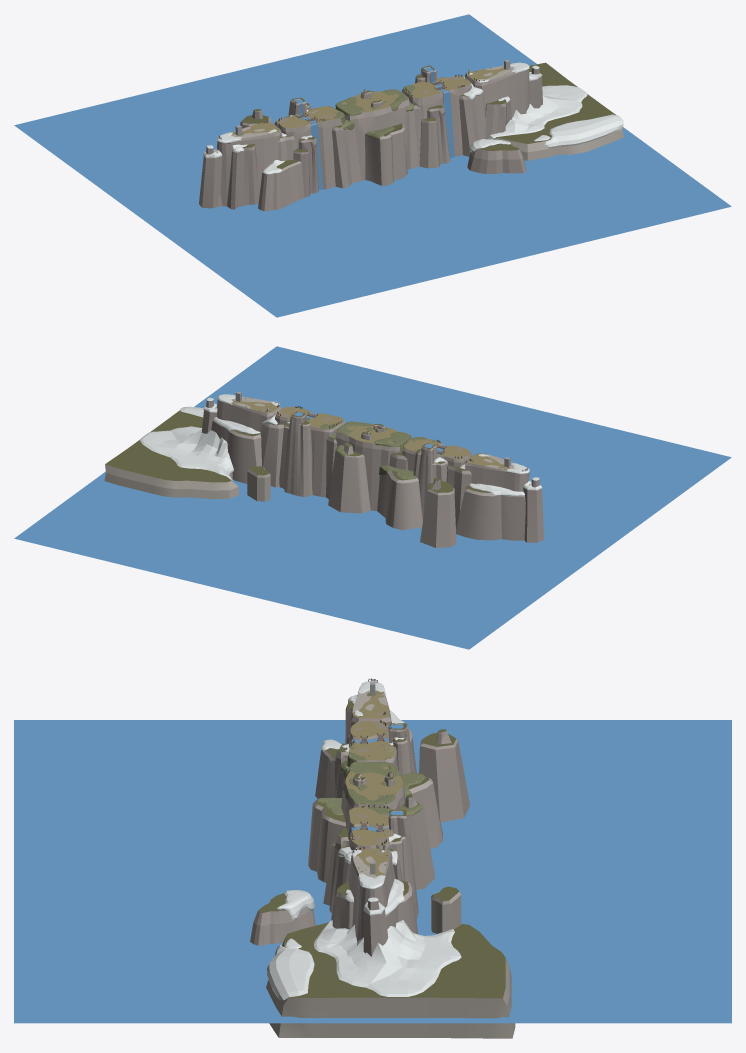
Rendered from level_export.fbx.
The picture shows the model from 3 angles, top to bottom: view 1: azimuth 30°, elevation 25°; view 2: azimuth 150°, elevation 25°; view 3: azimuth 270°, elevation 25°; orthographic projection. The views are drawn at different scales.
Parts seen in each view (by area): view 1: pPlane2, polySurface43, polySurface17, polySurface53, plateau (×2), polySurface15 (×2), polySurface78, polySurface46, polySurface21, GroundL (×2), polySurface48, polySurface32 (+5 smaller); view 2: pPlane2, polySurface53, polySurface23 (×2), polySurface25 (×2), polySurface46, polySurface17, polySurface60, polySurface41, polySurface7, polySurface43, polySurface78, polySurface74 (+4 smaller); view 3: pPlane2, polySurface53, polySurface46, polySurface43, polySurface7, polySurface78, polySurface25 (×2), polySurface48, polySurface50, polySurface60, GroundL (×2), pPlane5 (+9 smaller).
Boxes of the visible parts, x1=… form: pPlane2: x1=14, y1=14, x2=731, y2=317; polySurface43: x1=342, y1=91, x2=409, y2=185; polySurface17: x1=199, y1=122, x2=281, y2=208; polySurface53: x1=493, y1=62, x2=623, y2=160; plateau (×2): x1=293, y1=105, x2=450, y2=197; polySurface15 (×2): x1=227, y1=99, x2=512, y2=209; polySurface78: x1=465, y1=65, x2=542, y2=116; polySurface46: x1=488, y1=85, x2=587, y2=139; polySurface21: x1=258, y1=159, x2=304, y2=211; GroundL (×2): x1=274, y1=76, x2=471, y2=156; polySurface48: x1=545, y1=114, x2=623, y2=148; polySurface32: x1=332, y1=124, x2=361, y2=188; pPlane2: x1=14, y1=346, x2=731, y2=649; polySurface53: x1=104, y1=410, x2=239, y2=498; polySurface23 (×2): x1=211, y1=420, x2=525, y2=540; polySurface25 (×2): x1=279, y1=411, x2=448, y2=519; polySurface46: x1=140, y1=426, x2=233, y2=480; polySurface17: x1=465, y1=453, x2=543, y2=542; polySurface60: x1=328, y1=442, x2=370, y2=513; polySurface41: x1=377, y1=470, x2=422, y2=530; polySurface7: x1=420, y1=477, x2=456, y2=547; polySurface43: x1=335, y1=425, x2=411, y2=510; polySurface78: x1=202, y1=396, x2=281, y2=433; polySurface74: x1=307, y1=413, x2=345, y2=497; pPlane2: x1=14, y1=720, x2=731, y2=1023; polySurface53: x1=266, y1=922, x2=515, y2=1038; polySurface46: x1=314, y1=920, x2=461, y2=996; polySurface43: x1=308, y1=766, x2=405, y2=882; polySurface7: x1=419, y1=729, x2=470, y2=822; polySurface78: x1=348, y1=848, x2=395, y2=956; polySurface25 (×2): x1=388, y1=723, x2=418, y2=919; polySurface48: x1=267, y1=944, x2=314, y2=1000; polySurface50: x1=250, y1=893, x2=315, y2=945; polySurface60: x1=402, y1=794, x2=435, y2=889; GroundL (×2): x1=349, y1=721, x2=390, y2=850; pPlane5: x1=431, y1=886, x2=461, y2=933.
Bounding box in the file's own units: 1510 × 285 × 1510.
